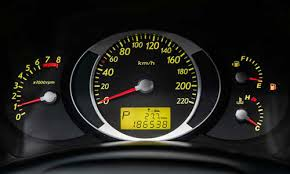Digital_Meter: (118, 106, 171, 129)
